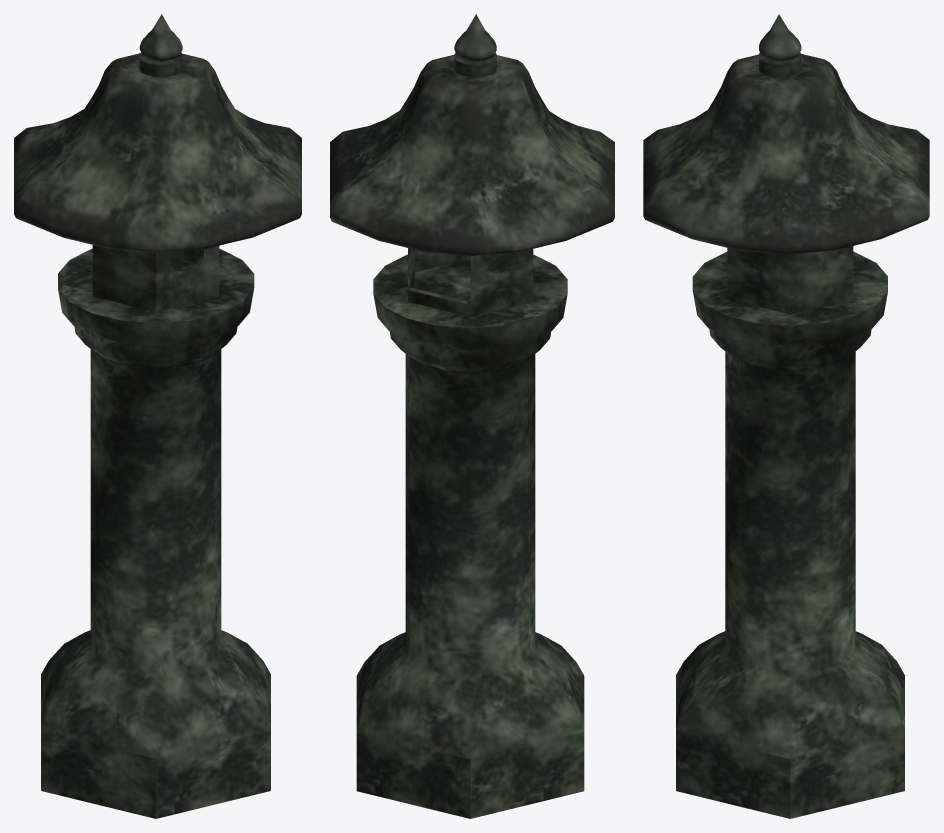
The model's file is jp_toro_moss.glb.
3 renders of one model, left to right at view 1: azimuth 30°, elevation 25°; view 2: azimuth 150°, elevation 25°; view 3: azimuth 270°, elevation 25°, orthographic.
Visible parts, largest first — view 1: Lantern; view 2: Lantern; view 3: Lantern.
Boxes of the visible parts, x1,y1,x2,y2 form: Lantern: (14, 14, 301, 818); Lantern: (330, 14, 614, 818); Lantern: (643, 14, 929, 818).
Bounding box in the file's own units: 0.6798 × 1.7 × 0.5887.
Materials: 1 (1 with a texture image).
